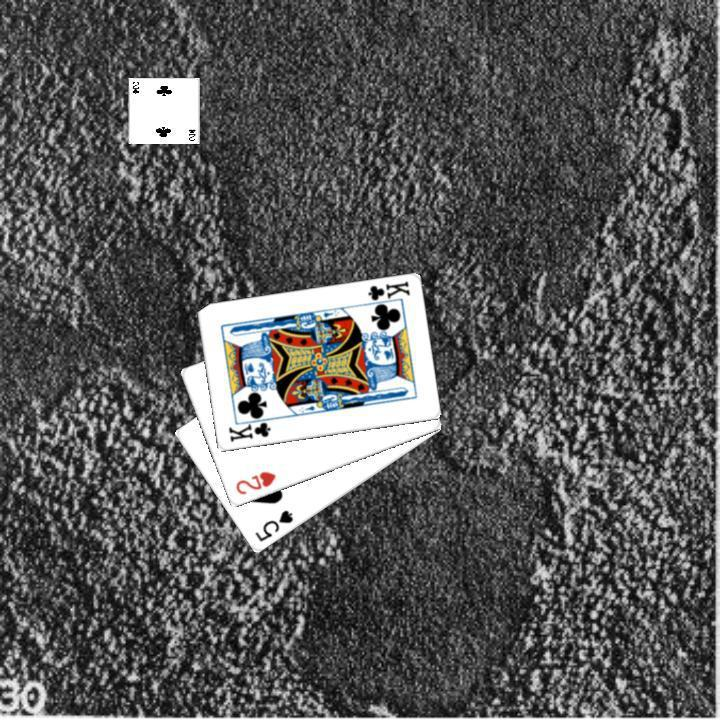2: (231, 467, 278, 497)
5: (251, 506, 295, 544)
K: (224, 413, 275, 444), (360, 277, 411, 308)
